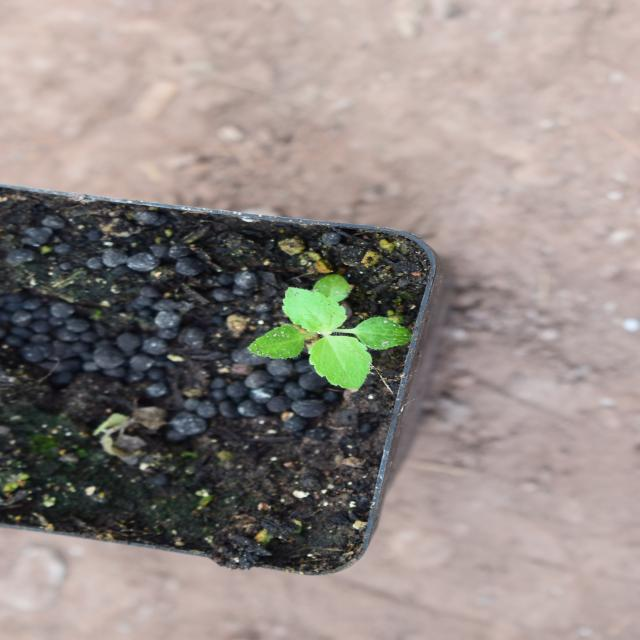billygoat_weed: (242, 230, 364, 411)
